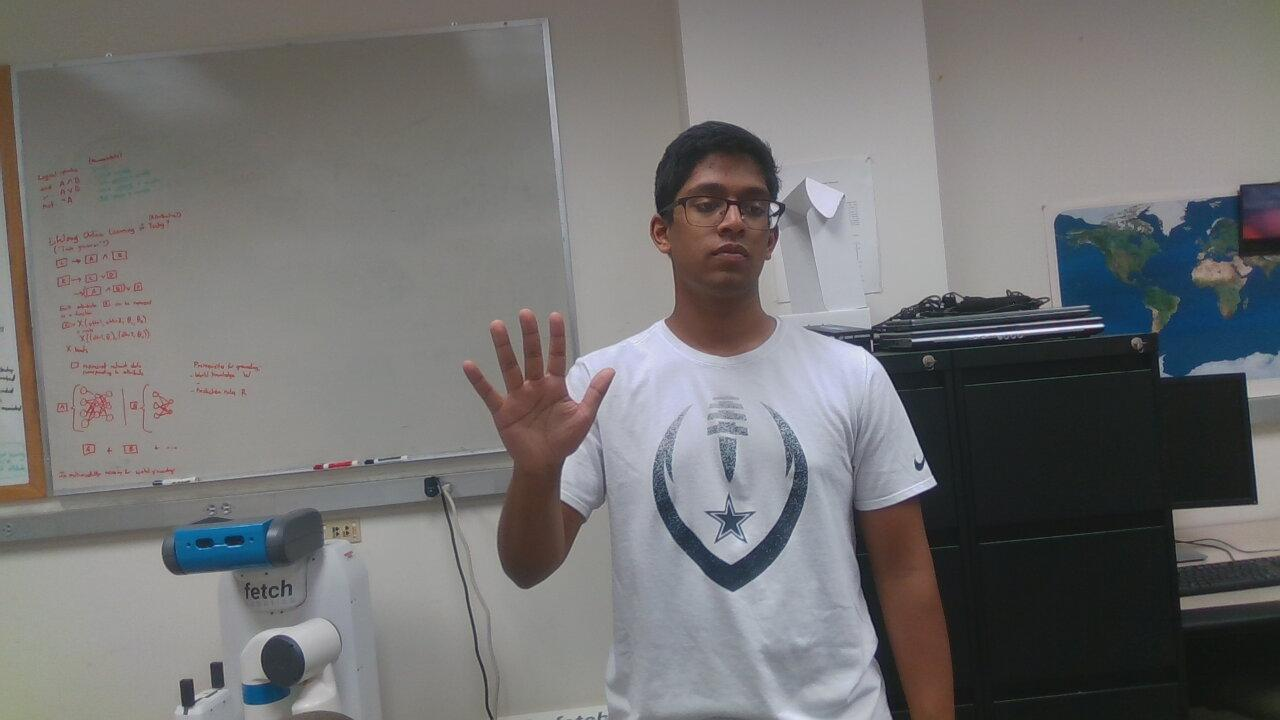hands: (437, 300, 636, 500)
